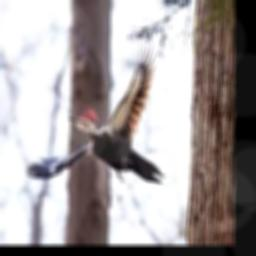Woodpecker: (26, 39, 163, 182)
